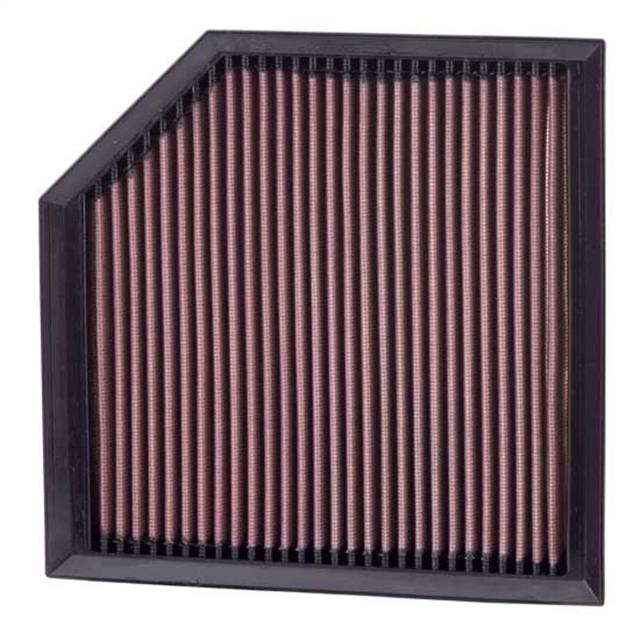air_filter: (34, 30, 612, 612)
